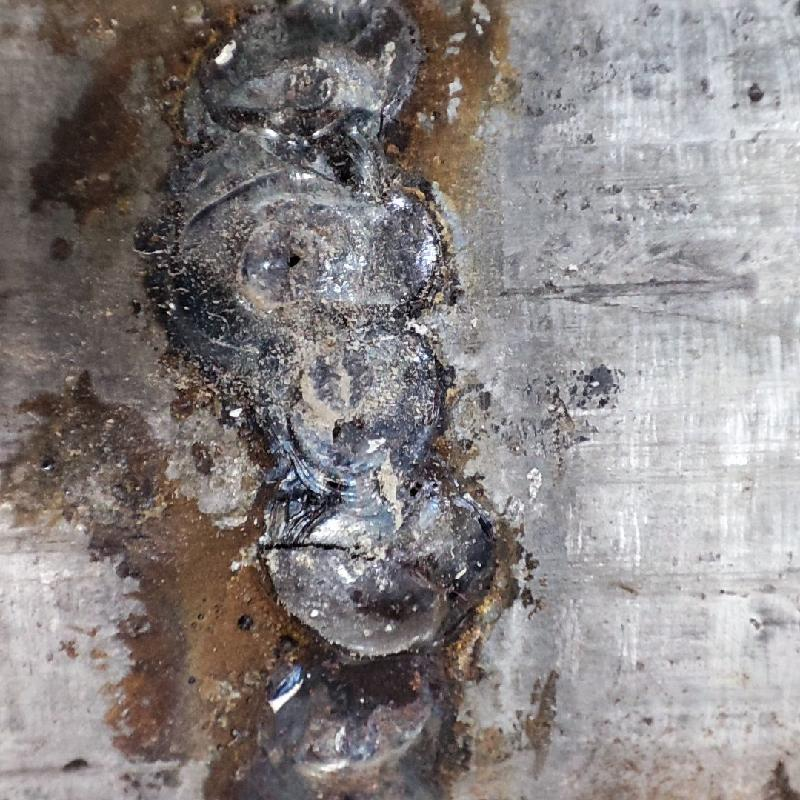Not_fully_soldered: (190, 2, 476, 797)
